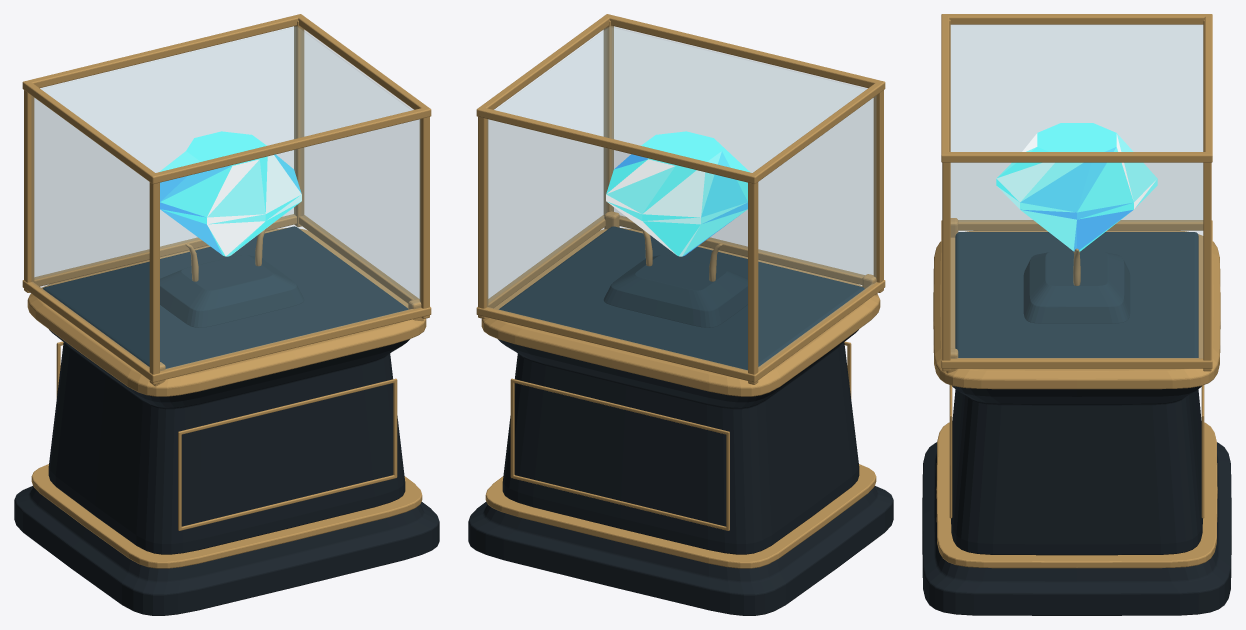
File: DM_Prop_DisplayCase_Diamond_A.fbx
3 views of the same model, side by side, from view 1: azimuth 30°, elevation 25°; view 2: azimuth 150°, elevation 25°; view 3: azimuth 270°, elevation 25° (orthographic). The views are drawn at different scales.
Parts seen in each view (by area): view 1: DM_Prop_DisplayCase_Diamond_A_Delivery_Opaque, DM_Prop_DisplayCase_Diamond_A_Delivery_Glass; view 2: DM_Prop_DisplayCase_Diamond_A_Delivery_Opaque, DM_Prop_DisplayCase_Diamond_A_Delivery_Glass; view 3: DM_Prop_DisplayCase_Diamond_A_Delivery_Opaque, DM_Prop_DisplayCase_Diamond_A_Delivery_Glass.
Boxes of the visible parts, x1,y1,x2,y2 form: DM_Prop_DisplayCase_Diamond_A_Delivery_Opaque: [14, 14, 439, 615]; DM_Prop_DisplayCase_Diamond_A_Delivery_Glass: [32, 26, 420, 368]; DM_Prop_DisplayCase_Diamond_A_Delivery_Opaque: [468, 14, 893, 615]; DM_Prop_DisplayCase_Diamond_A_Delivery_Glass: [487, 26, 875, 370]; DM_Prop_DisplayCase_Diamond_A_Delivery_Opaque: [922, 14, 1231, 615]; DM_Prop_DisplayCase_Diamond_A_Delivery_Glass: [951, 25, 1202, 358].
Bounding box in the file's own units: 1.18 × 1.58 × 0.98.
